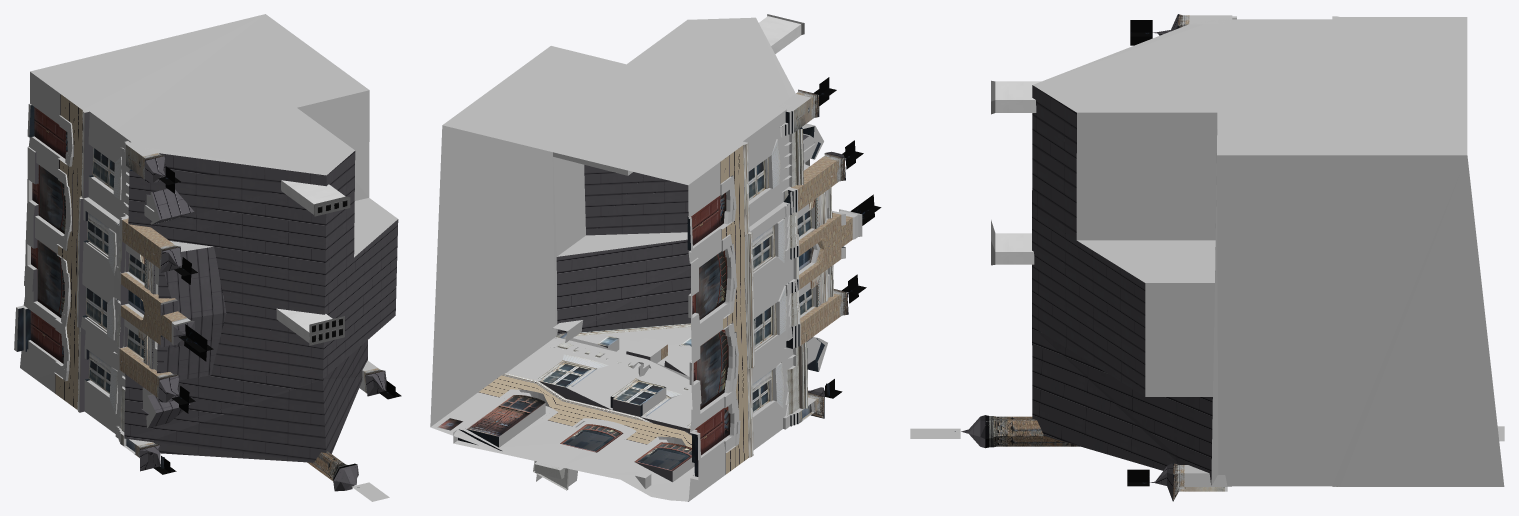
File: Kullassepa_13-origo.obj
3 renders of one model, left to right at view 1: azimuth 30°, elevation 25°; view 2: azimuth 150°, elevation 25°; view 3: azimuth 270°, elevation 25°, orthographic. The views are drawn at different scales.
Parts seen in each view (by area): view 1: Kullassepa_13; view 2: Kullassepa_13; view 3: Kullassepa_13.
Part boxes in pixels (bbox=[...]): Kullassepa_13: bbox=[14, 14, 401, 501]; Kullassepa_13: bbox=[430, 14, 881, 501]; Kullassepa_13: bbox=[910, 14, 1504, 501].
Bounding box in the file's own units: 12.19 × 14.5 × 20.99.
